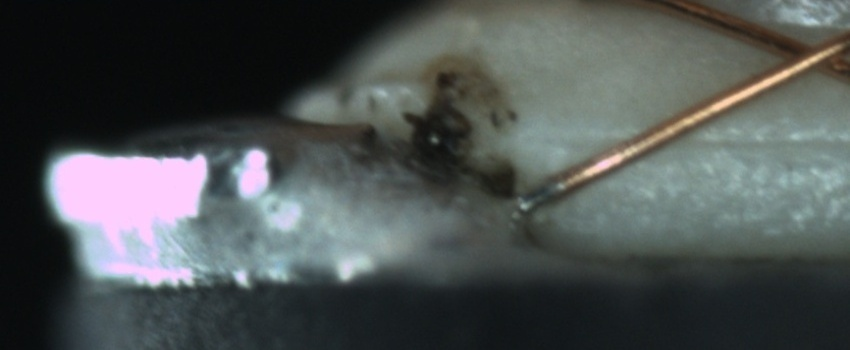CL: (756, 24, 848, 86)
DL: (565, 110, 850, 172)
TS: (515, 177, 561, 215)
